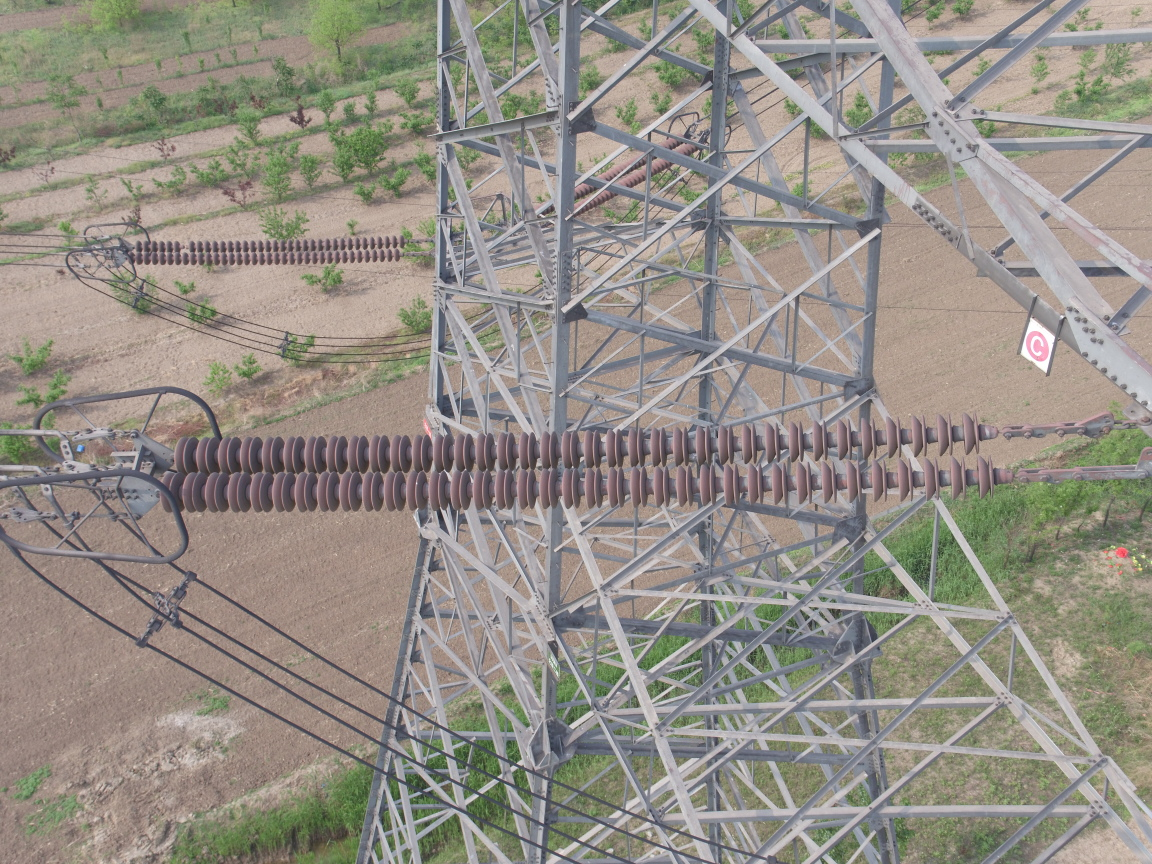insulator: (146, 408, 1058, 514), (123, 232, 422, 268)
